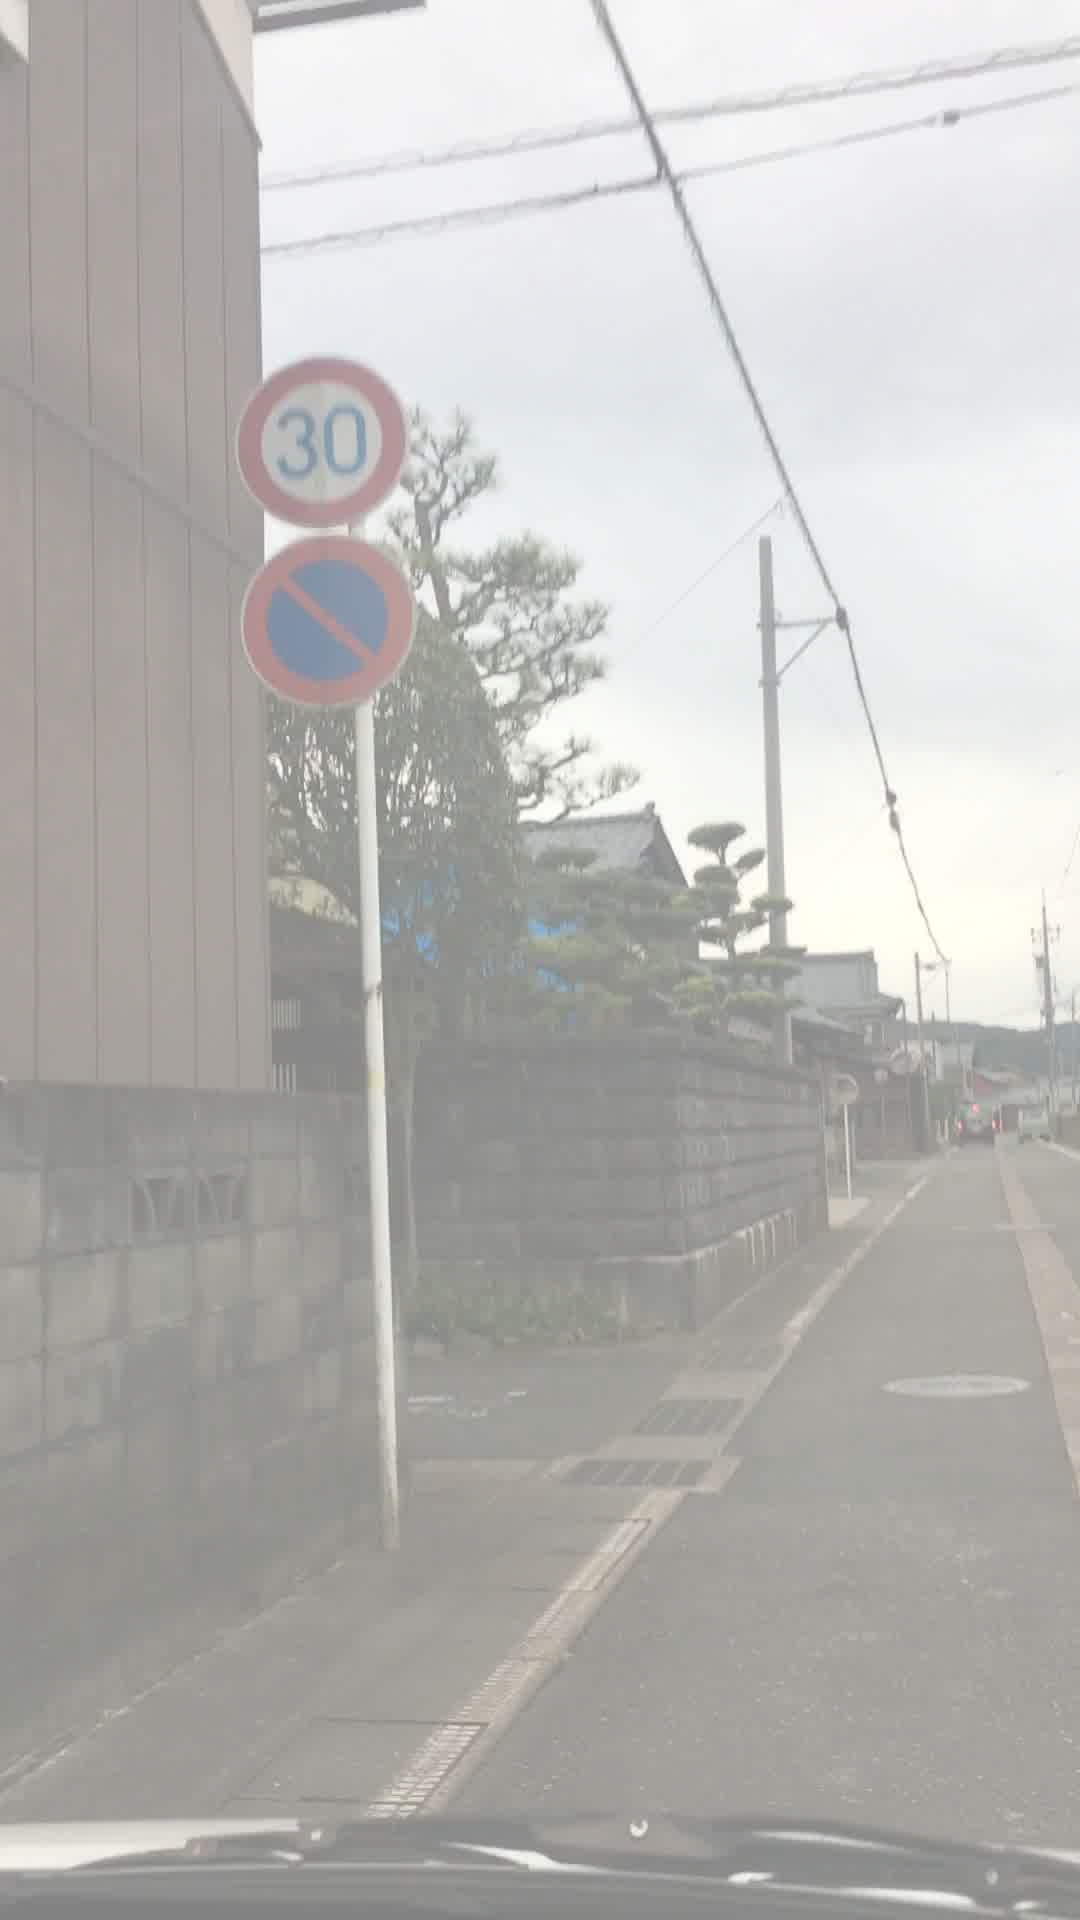Prohibition_sign: (233, 527, 418, 704)
Speed_sign: (218, 356, 419, 520)
